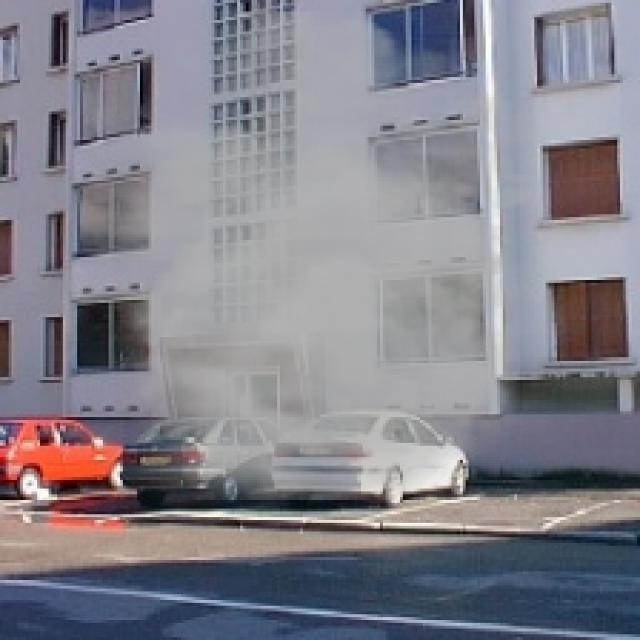Smoke: (80, 11, 600, 532)
